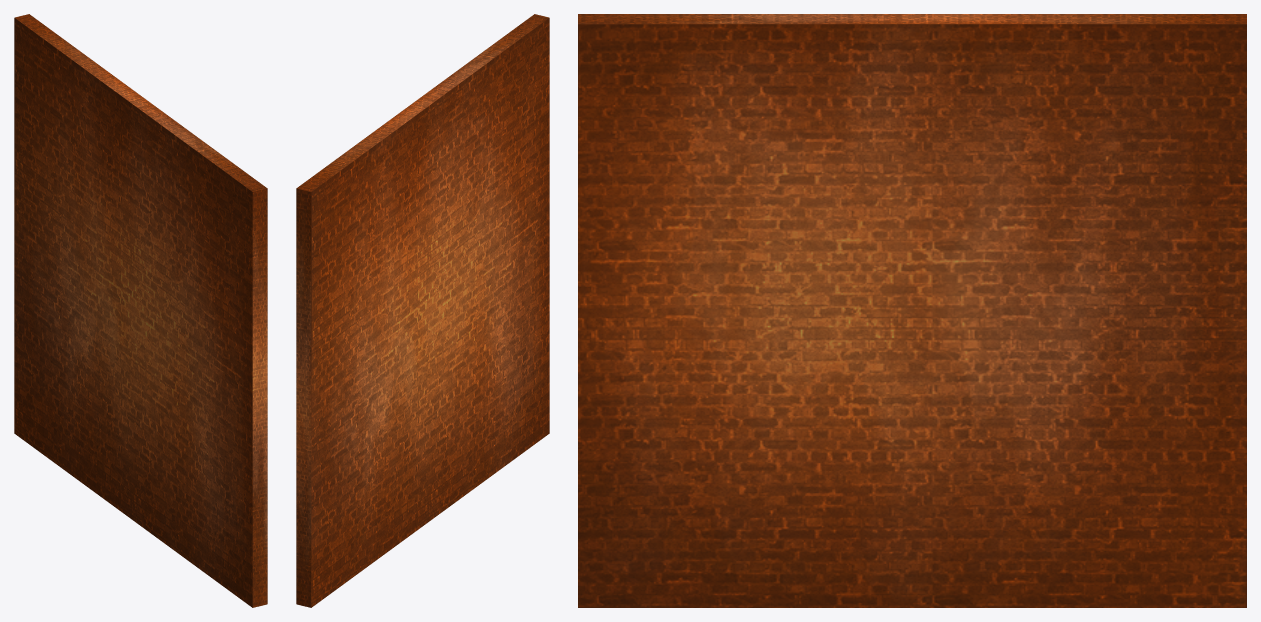
File: wall.fbx
3 renders of one model, left to right at view 1: azimuth 30°, elevation 25°; view 2: azimuth 150°, elevation 25°; view 3: azimuth 270°, elevation 25°, orthographic. The views are drawn at different scales.
Visible parts, largest first — view 1: pCube1; view 2: pCube1; view 3: pCube1.
Boxes of the visible parts, <box> form: pCube1: <box>14,14,267,607</box>; pCube1: <box>296,14,549,607</box>; pCube1: <box>578,14,1246,607</box>.
Size of the model in its own units: 1.68 by 44.6 by 46.32.
Materials: 1 (1 with a texture image).
